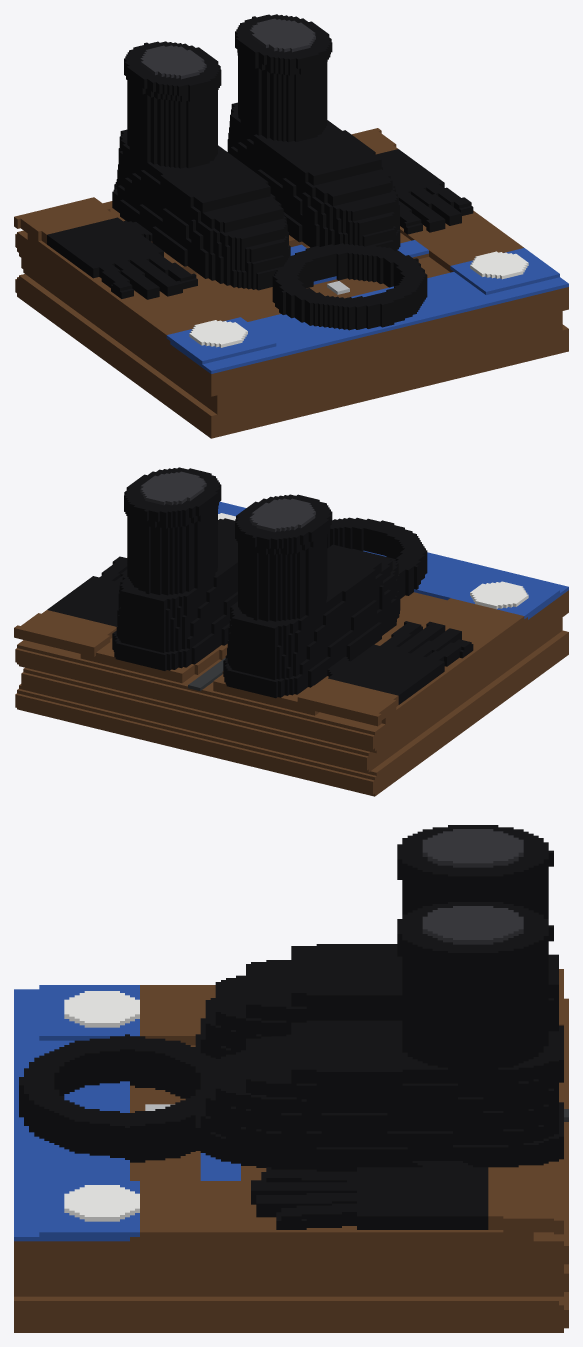
File: robofac_enviro_suit.glb
The picture shows the model from 3 angles, top to bottom: view 1: azimuth 30°, elevation 25°; view 2: azimuth 150°, elevation 25°; view 3: azimuth 270°, elevation 25°; orthographic projection. The views are drawn at different scales.
Parts seen in each view (by area): view 1: robofac_enviro_suit:compound; view 2: robofac_enviro_suit:compound; view 3: robofac_enviro_suit:compound.
Boxes of the visible parts, x1,y1,x2,y2 form: robofac_enviro_suit:compound: (14, 14, 568, 438); robofac_enviro_suit:compound: (14, 467, 568, 796); robofac_enviro_suit:compound: (14, 825, 568, 1332).
Size of the model in its own units: 0.472 by 0.284 by 0.44.
